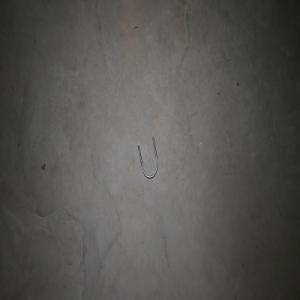ClampPart: (137, 135, 158, 179)
